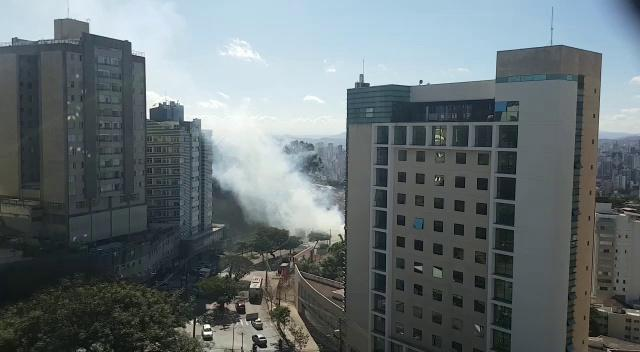smoke: (227, 149, 308, 215)
